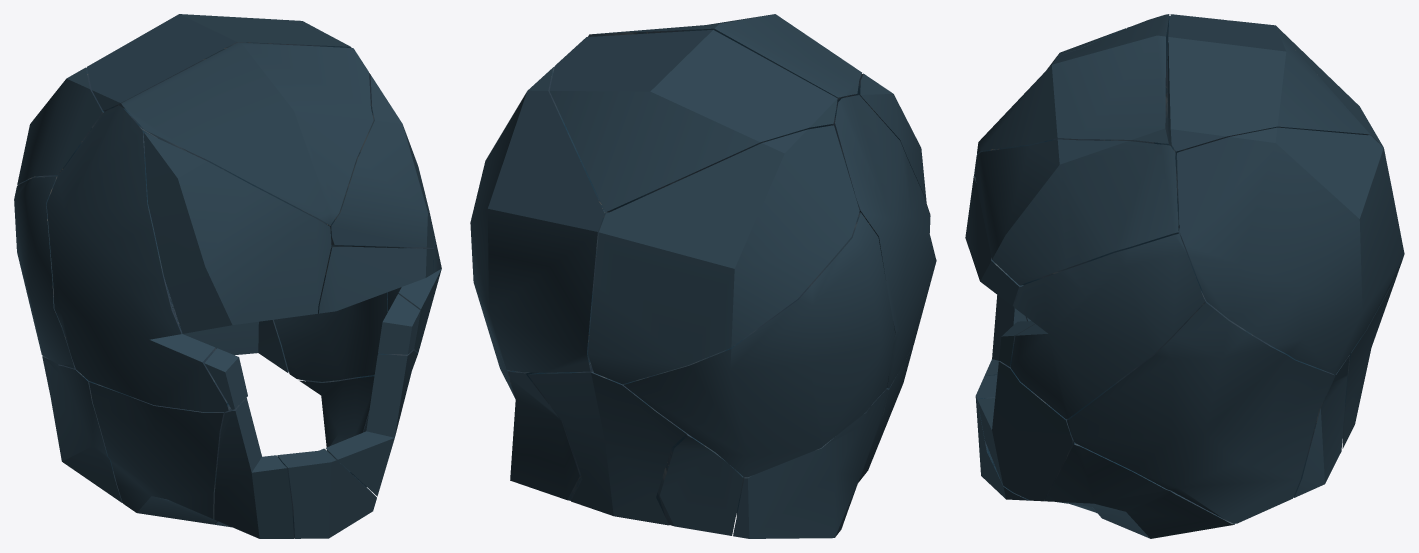
The model's file is casco roto.fbx.
3 renders of one model, left to right at view 1: azimuth 30°, elevation 25°; view 2: azimuth 150°, elevation 25°; view 3: azimuth 270°, elevation 25°, orthographic. The views are drawn at different scales.
Visible parts, largest first — view 1: male.001_cell.114, male.001_cell.109, male.001_cell.102, male.001_cell.113, male.001_cell.101, male.001_cell.110, male.001_cell.112, male.001_cell.118, male.001_cell.107, male.001_cell.115, male.001_cell.116, male.001_cell.108 (+7 smaller); view 2: male.001_cell.117, male.001_cell.110, male.001_cell.115, male.001_cell.104, male.001_cell.105, male.001_cell.114, male.001_cell.111, male.001_cell.108, male.001_cell.109, male.001_cell.102, male.001_cell.113; view 3: male.001_cell.104, male.001_cell.118, male.001_cell.101, male.001_cell.103, male.001_cell.110, male.001_cell.109, male.001_cell.106, male.001_cell.119, male.001_cell.111, male.001_cell.116, male.001_cell.105, male.001_cell.107 (+3 smaller).
Boxes of the visible parts, left/top/right/bottom form: male.001_cell.114: left=46, top=105, right=230, bottom=412; male.001_cell.109: left=121, top=42, right=373, bottom=225; male.001_cell.102: left=143, top=132, right=331, bottom=333; male.001_cell.113: left=89, top=381, right=225, bottom=523; male.001_cell.101: left=324, top=73, right=434, bottom=247; male.001_cell.110: left=87, top=14, right=351, bottom=111; male.001_cell.112: left=214, top=397, right=293, bottom=538; male.001_cell.118: left=274, top=245, right=388, bottom=382; male.001_cell.107: left=277, top=448, right=376, bottom=538; male.001_cell.115: left=14, top=176, right=75, bottom=368; male.001_cell.116: left=318, top=246, right=433, bottom=313; male.001_cell.108: left=42, top=356, right=122, bottom=502; male.001_cell.117: left=588, top=125, right=859, bottom=384; male.001_cell.110: left=549, top=30, right=837, bottom=212; male.001_cell.115: left=623, top=212, right=895, bottom=477; male.001_cell.104: left=470, top=66, right=608, bottom=372; male.001_cell.105: left=528, top=370, right=685, bottom=525; male.001_cell.114: left=831, top=95, right=936, bottom=388; male.001_cell.111: left=509, top=370, right=743, bottom=535; male.001_cell.108: left=733, top=389, right=888, bottom=538; male.001_cell.109: left=588, top=14, right=861, bottom=100; male.001_cell.102: left=855, top=73, right=930, bottom=214; male.001_cell.113: left=840, top=346, right=913, bottom=530; male.001_cell.104: left=1177, top=127, right=1404, bottom=374; male.001_cell.118: left=1067, top=291, right=1335, bottom=523; male.001_cell.101: left=975, top=139, right=1178, bottom=285; male.001_cell.103: left=1010, top=234, right=1204, bottom=419; male.001_cell.110: left=1168, top=14, right=1369, bottom=157; male.001_cell.109: left=977, top=14, right=1169, bottom=154; male.001_cell.106: left=1045, top=441, right=1234, bottom=538; male.001_cell.119: left=977, top=361, right=1073, bottom=501; male.001_cell.111: left=1293, top=355, right=1349, bottom=497; male.001_cell.116: left=965, top=176, right=1023, bottom=306; male.001_cell.105: left=1342, top=274, right=1397, bottom=448; male.001_cell.107: left=975, top=375, right=1029, bottom=500.
Bounding box in the file's own units: 65.64 × 80.72 × 67.38.
1 material, 1 textured.
